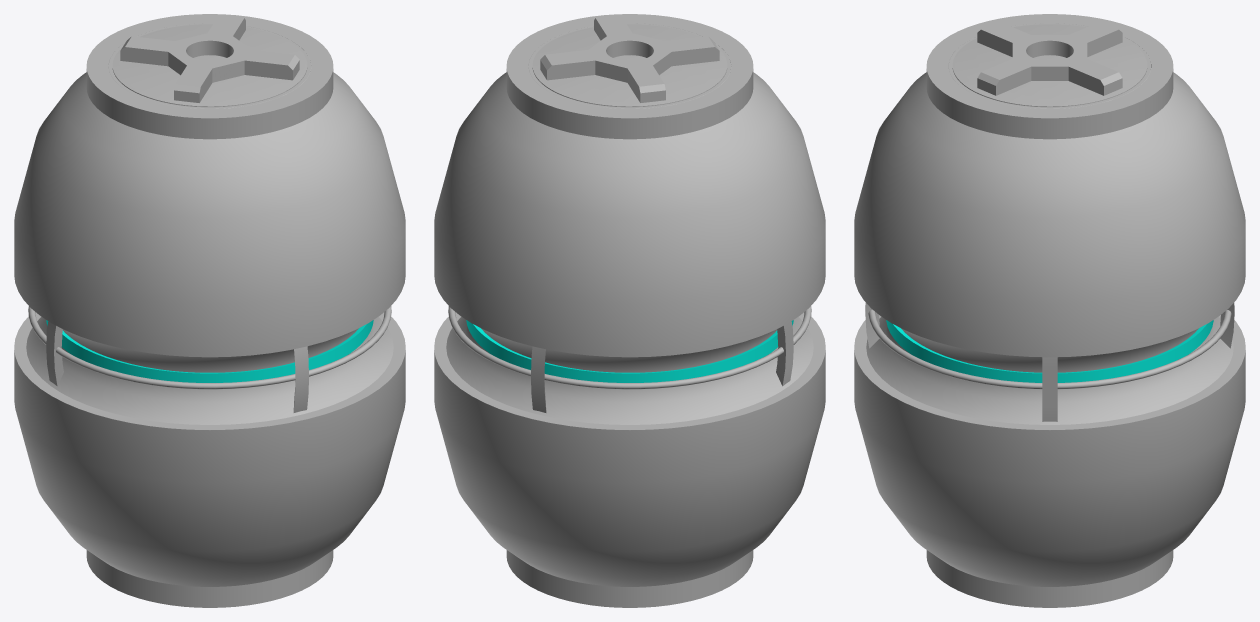
The model's file is grenade.fbx.
The picture shows the model from 3 angles, left to right: view 1: azimuth 30°, elevation 25°; view 2: azimuth 150°, elevation 25°; view 3: azimuth 270°, elevation 25°; orthographic projection.
Parts seen in each view (by area): view 1: IceGrenade9:polySurface1, IceGrenade9:polySurface4, IceGrenade9:polySurface3, IceGrenade9:pTorus1, IceGrenade9:pasted__pTorus1group2, IceGrenade9:pasted__pTorus2group, IceGrenade9:pTorus2; view 2: IceGrenade9:polySurface1, IceGrenade9:polySurface4, IceGrenade9:polySurface3, IceGrenade9:pTorus1, IceGrenade9:pasted__pTorus1group2, IceGrenade9:pasted__pTorus2group, IceGrenade9:pTorus2; view 3: IceGrenade9:polySurface1, IceGrenade9:polySurface4, IceGrenade9:polySurface3, IceGrenade9:pTorus1, IceGrenade9:pasted__pTorus1group2, IceGrenade9:pTorus2, IceGrenade9:pasted__pTorus2group.
Part boxes in pixels (<box>): IceGrenade9:polySurface1: <box>14,14,405,607</box>; IceGrenade9:polySurface4: <box>120,15,299,102</box>; IceGrenade9:polySurface3: <box>108,23,311,108</box>; IceGrenade9:pTorus1: <box>46,320,373,382</box>; IceGrenade9:pasted__pTorus1group2: <box>28,306,391,389</box>; IceGrenade9:pasted__pTorus2group: <box>293,346,308,412</box>; IceGrenade9:pTorus2: <box>46,321,63,386</box>; IceGrenade9:polySurface1: <box>434,14,825,607</box>; IceGrenade9:polySurface4: <box>540,15,719,102</box>; IceGrenade9:polySurface3: <box>528,23,731,108</box>; IceGrenade9:pTorus1: <box>466,320,793,382</box>; IceGrenade9:pasted__pTorus1group2: <box>448,306,811,389</box>; IceGrenade9:pasted__pTorus2group: <box>531,346,546,412</box>; IceGrenade9:pTorus2: <box>776,321,793,386</box>; IceGrenade9:polySurface1: <box>854,14,1245,607</box>; IceGrenade9:polySurface4: <box>977,21,1122,95</box>; IceGrenade9:polySurface3: <box>948,23,1151,108</box>; IceGrenade9:pTorus1: <box>886,320,1213,382</box>; IceGrenade9:pasted__pTorus1group2: <box>868,310,1231,389</box>; IceGrenade9:pTorus2: <box>1042,357,1057,421</box>; IceGrenade9:pasted__pTorus2group: <box>865,302,1234,348</box>.
Size of the model in its own units: 0.3 by 0.4397 by 0.3.
